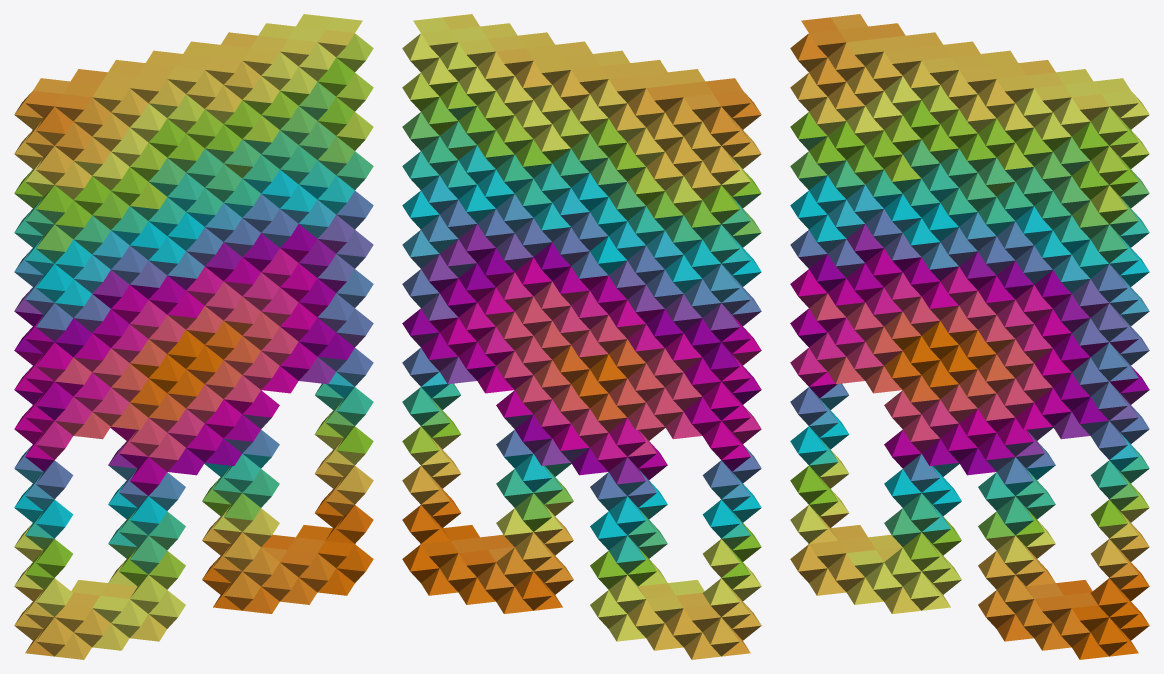
The model's file is asset.gltf.
The picture shows the model from 3 angles, left to right: view 1: azimuth 30°, elevation 25°; view 2: azimuth 150°, elevation 25°; view 3: azimuth 330°, elevation 25°; orthographic projection.
Size of the model in its own units: 5.09 by 7.92 by 1.13.
